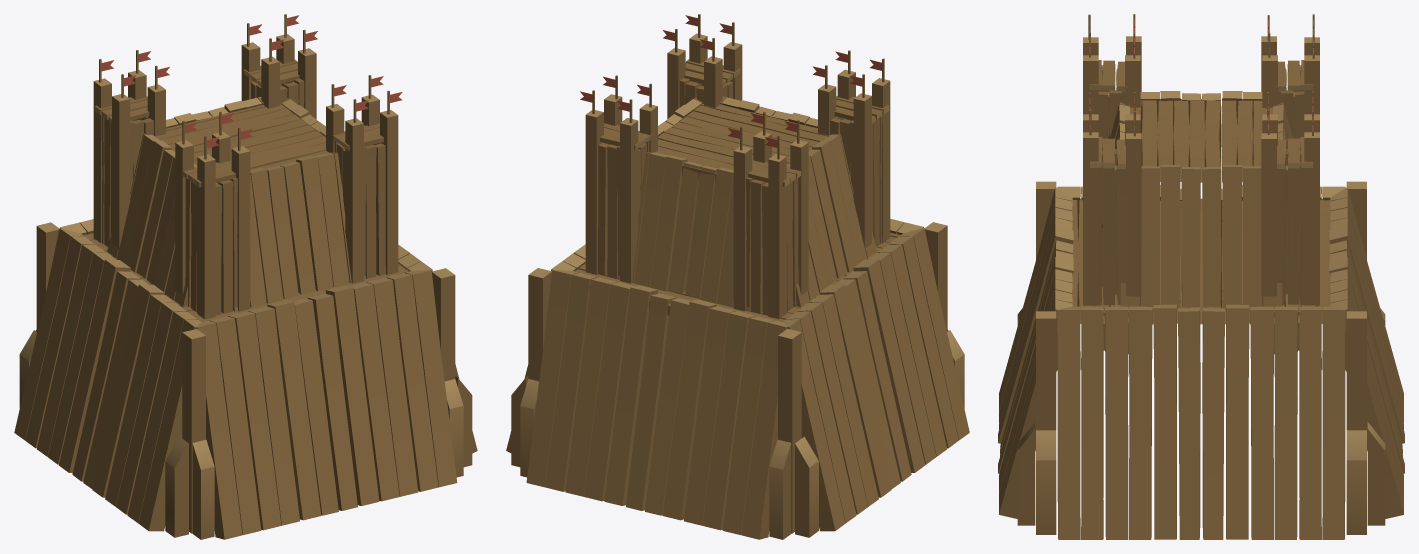
Rendered from Wooden Monument.glb.
3 views of the same model, side by side, from view 1: azimuth 30°, elevation 25°; view 2: azimuth 150°, elevation 25°; view 3: azimuth 270°, elevation 25° (orthographic). The views are drawn at different scales.
Parts seen in each view (by area): view 1: Wooden Monument; view 2: Wooden Monument; view 3: Wooden Monument.
Boxes of the visible parts, bbox=[...] form: Wooden Monument: bbox=[14, 14, 477, 539]; Wooden Monument: bbox=[506, 14, 969, 539]; Wooden Monument: bbox=[998, 14, 1404, 539].
Bounding box in the file's own units: 1.26 × 1.35 × 1.26.
